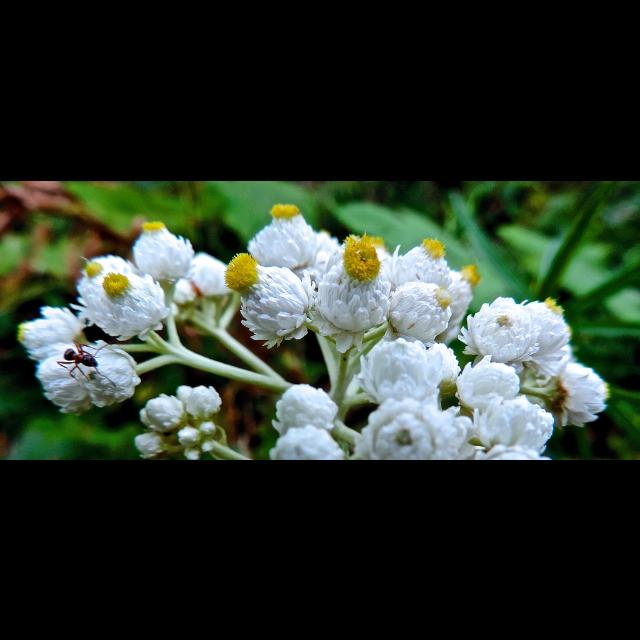Flower: (17, 201, 611, 459), (234, 248, 316, 352)
